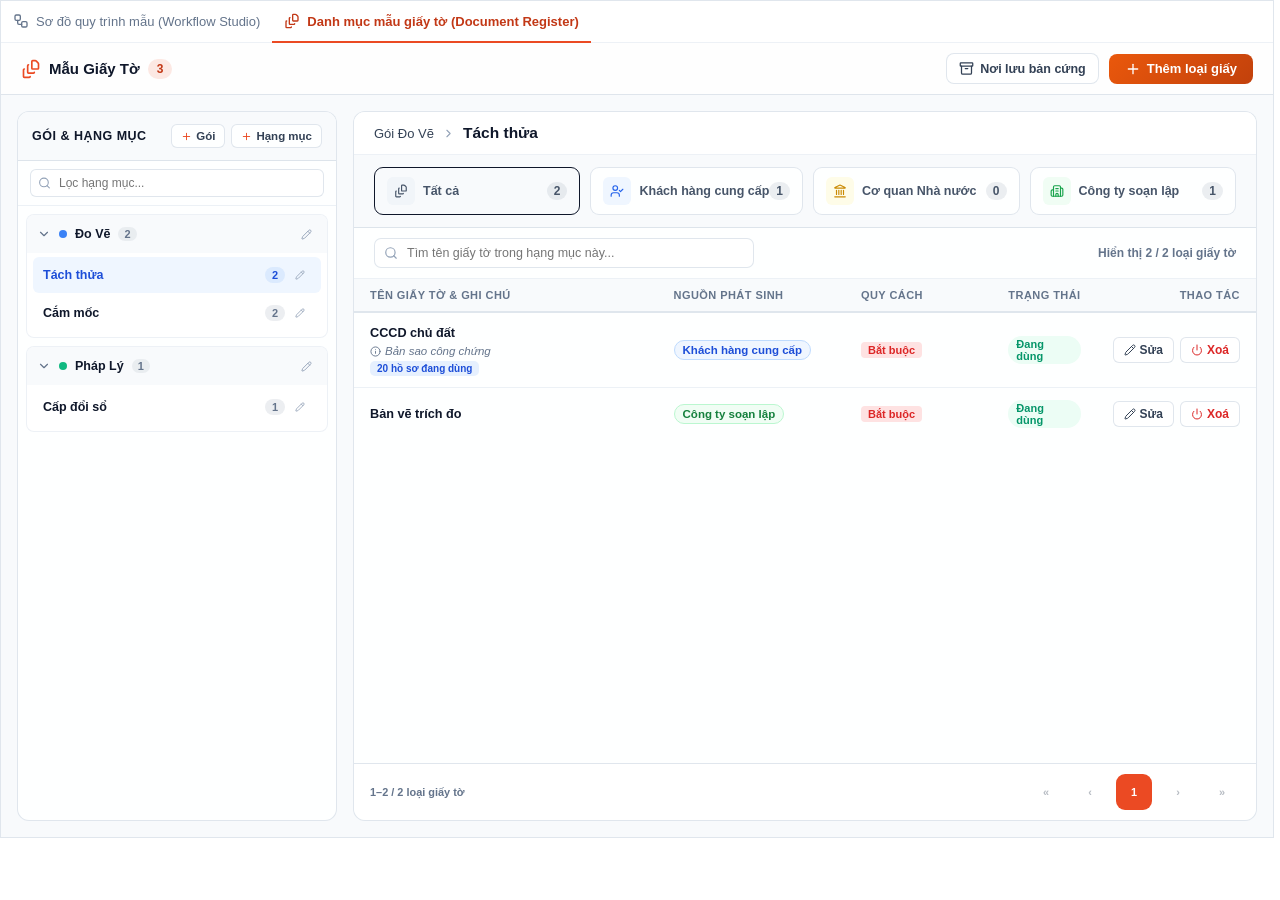
Scenario: DocumentTemplateSettings — Bố cục 2 vùng Enterprise › bấm Xoá trên dòng giấy tờ hiện modal xác nhận có nêu số hồ sơ đang dùng
This screenshot has width=1280, height=900.
Expected: the heading "Tách thửa" is shown, left=463, top=124, right=538, bottom=142
Click the button "Xoá" in the row of "CCCD chủ đất" at coordinates (1210, 350), box left=1180, top=337, right=1240, bottom=363
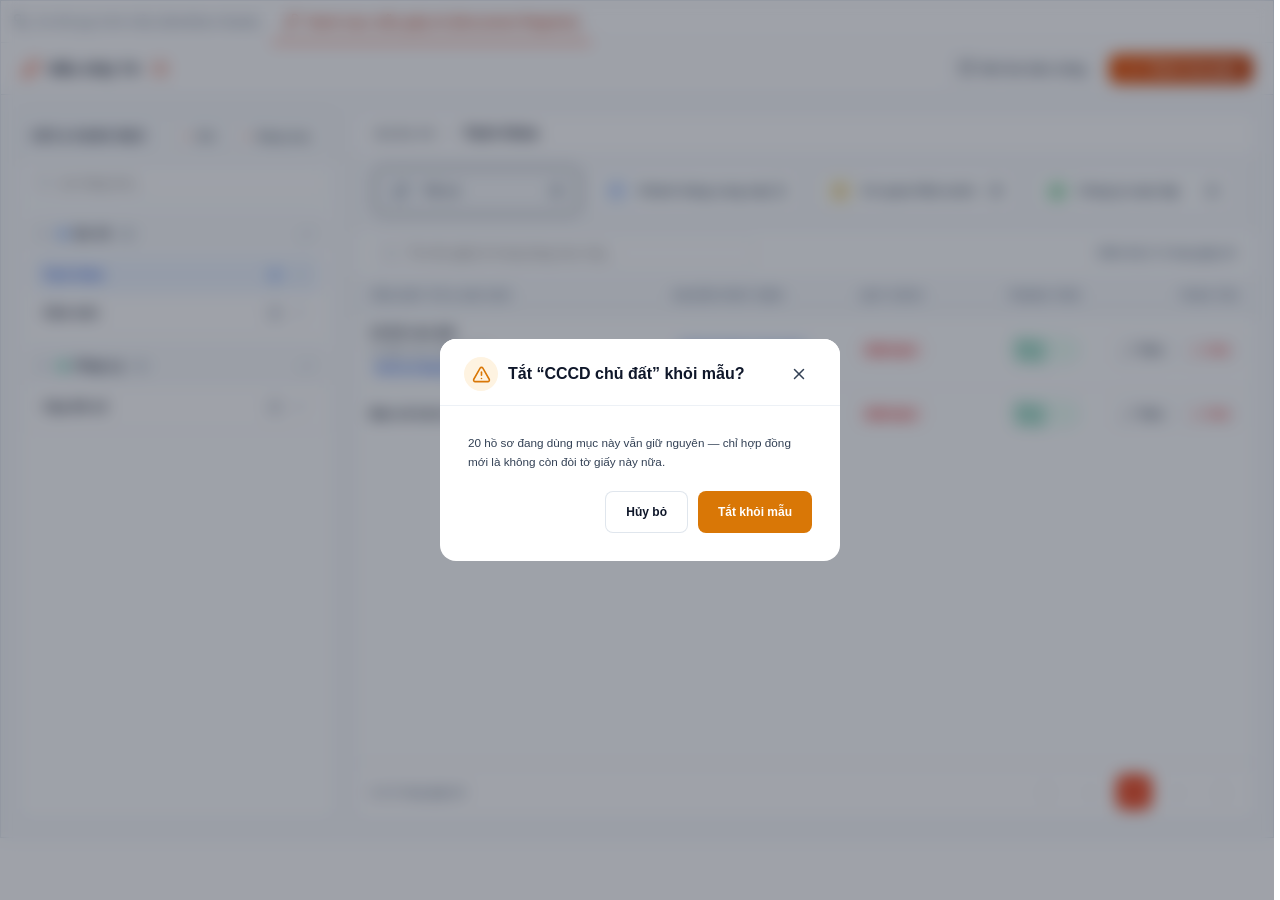
Expected: the text "Tắt “CCCD chủ đất” khỏi mẫu?" is shown, left=464, top=357, right=744, bottom=391
Expected: the text "20 hồ sơ đang dùng mục này vẫn giữ nguyên" is shown, left=468, top=436, right=791, bottom=468
